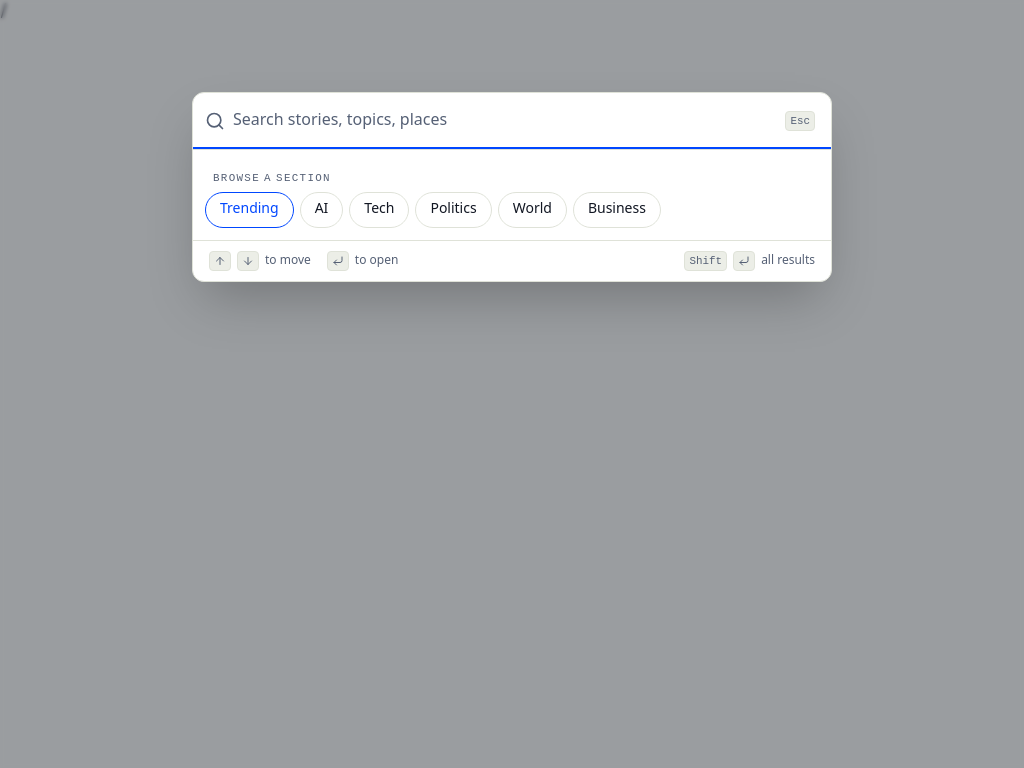
Test: search palette › shows a helpful error with a retry when the API fails
This screenshot has width=1024, height=768.
Type "climate" into the dropdown labelled "Search stories" at (503, 121), box [233, 93, 773, 149]
Wait 250 ms
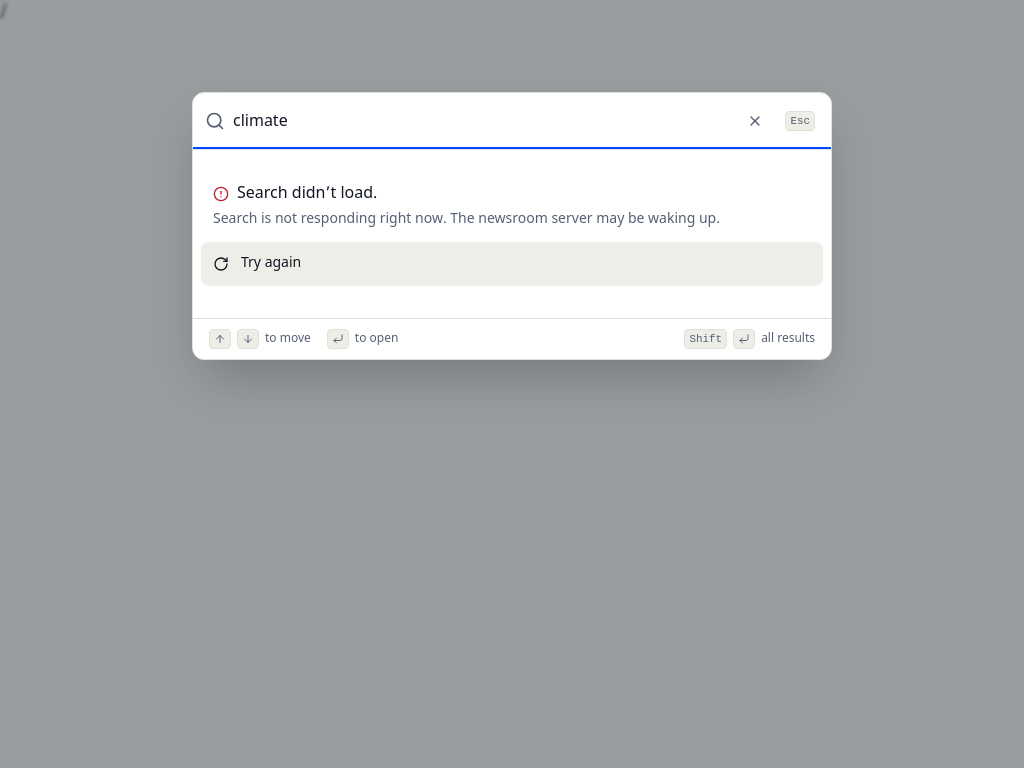
Check: the text "Search didn’t load." is shown, box [213, 183, 377, 205]
Click the option "Try again" at (271, 264), box [201, 242, 823, 286]
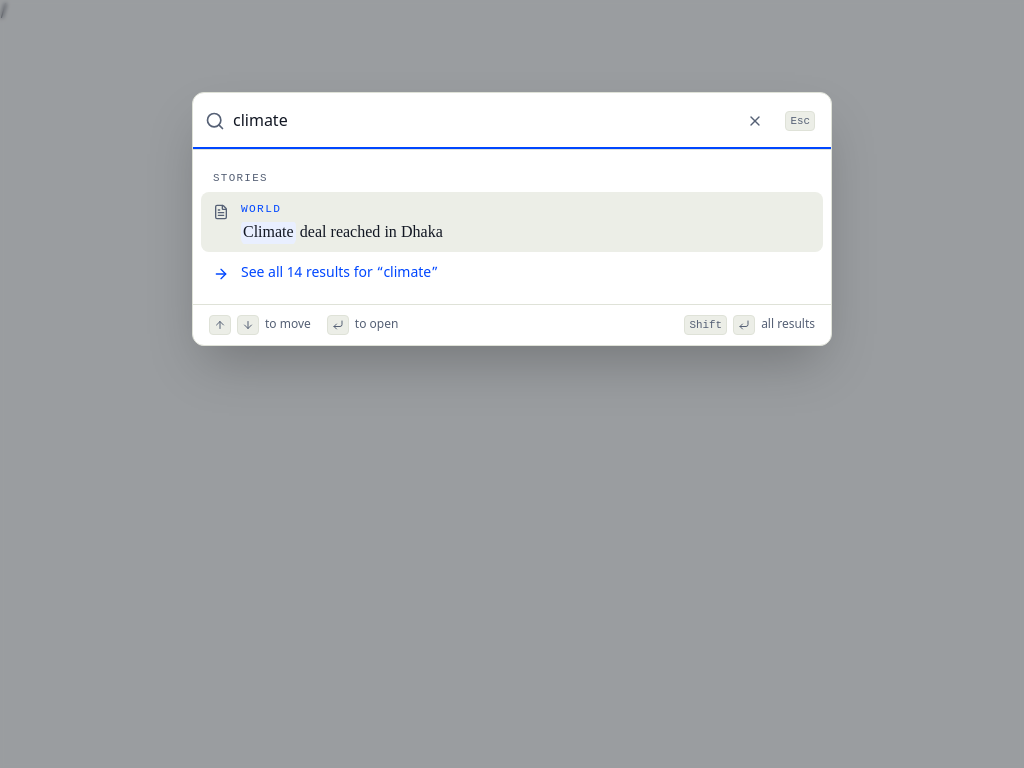
Check: the text "Climate" is shown, box [241, 222, 296, 244]
